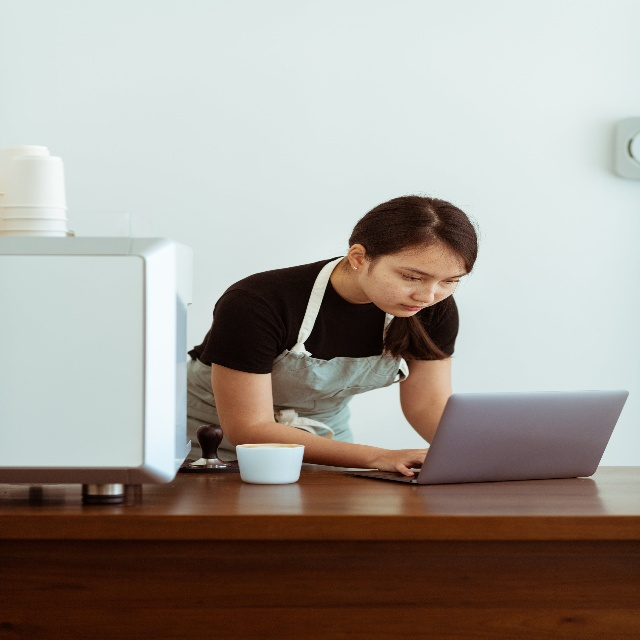Sin_guantes: (376, 445, 429, 474)
